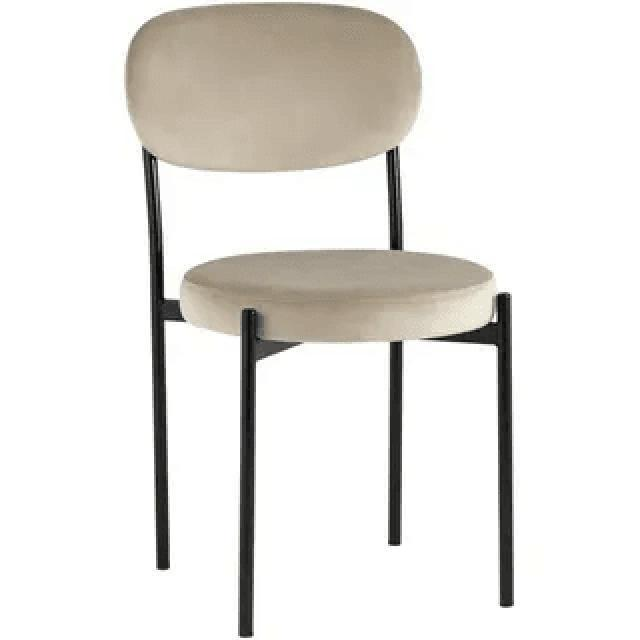chair: (119, 2, 520, 636), (125, 16, 502, 338)
